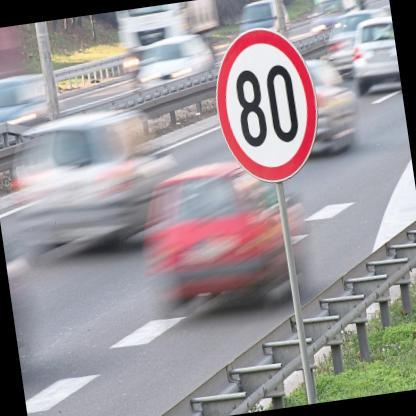road_sign: (217, 29, 317, 182)
